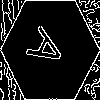A: (25, 25, 74, 77)
